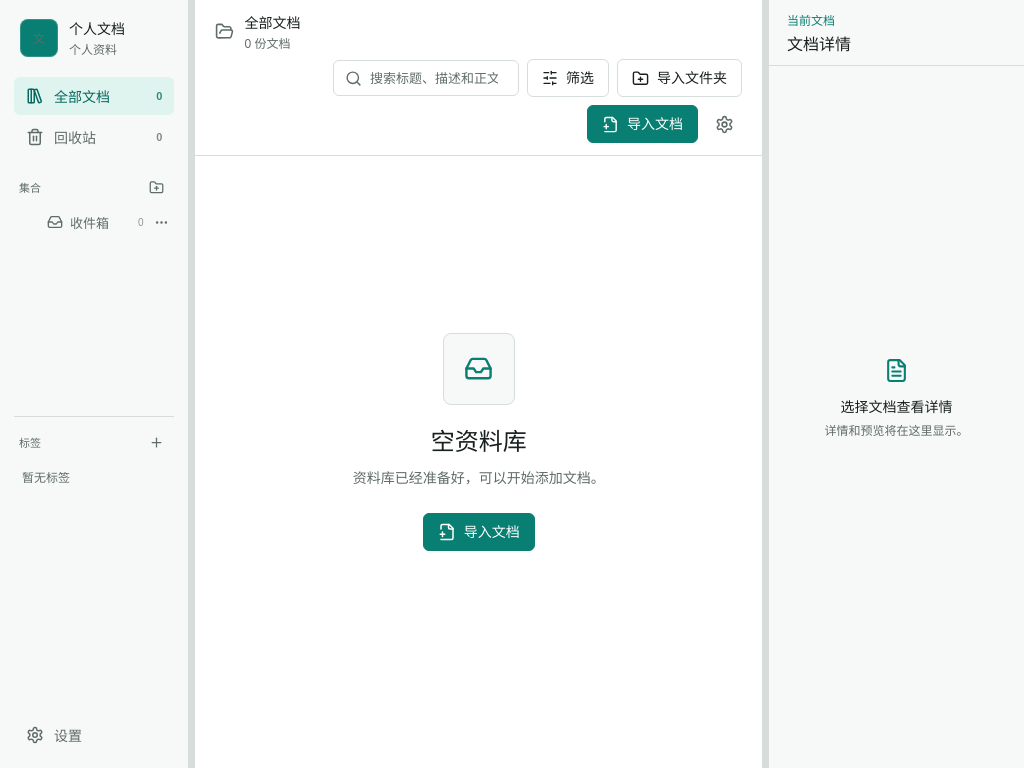
Scenario: 批量导入流程 › loads the live pending total after import instead of using the old snapshot
The image size is (1024, 768).
Expected: the button "全部文档 0" is shown, [14, 77, 174, 115]
Step 1. Click the 1st button "导入文档" → (642, 124), box [587, 105, 698, 143]
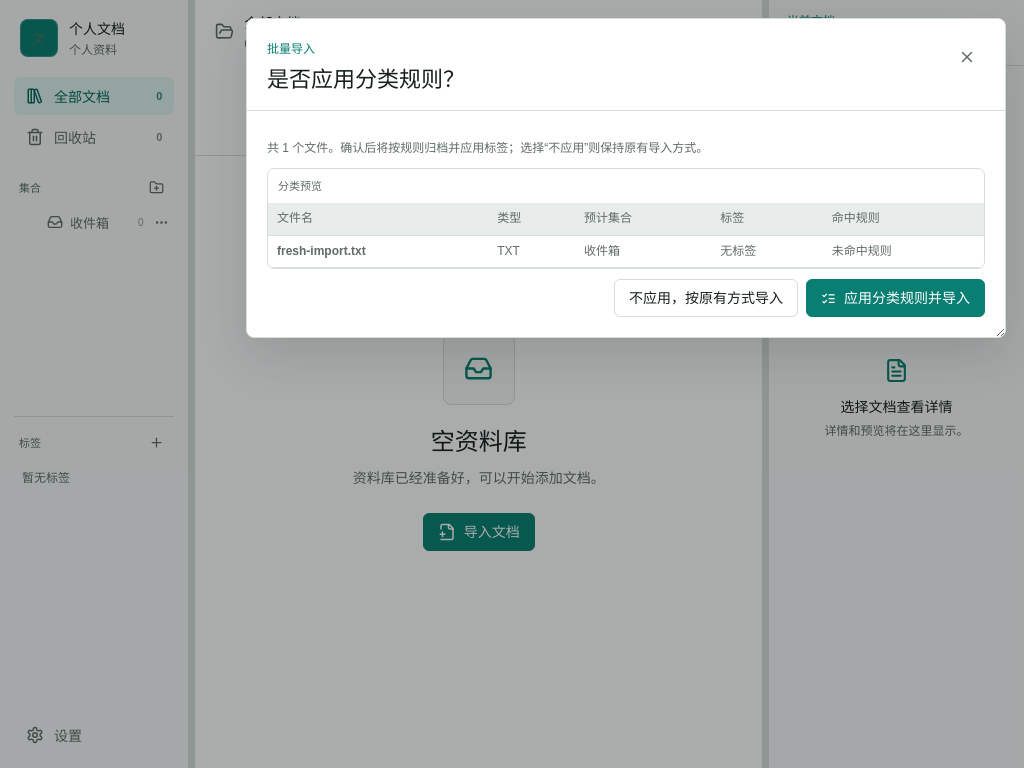
Step 2. Click the button "不应用，按原有方式导入" → (706, 298), box [614, 279, 798, 317]
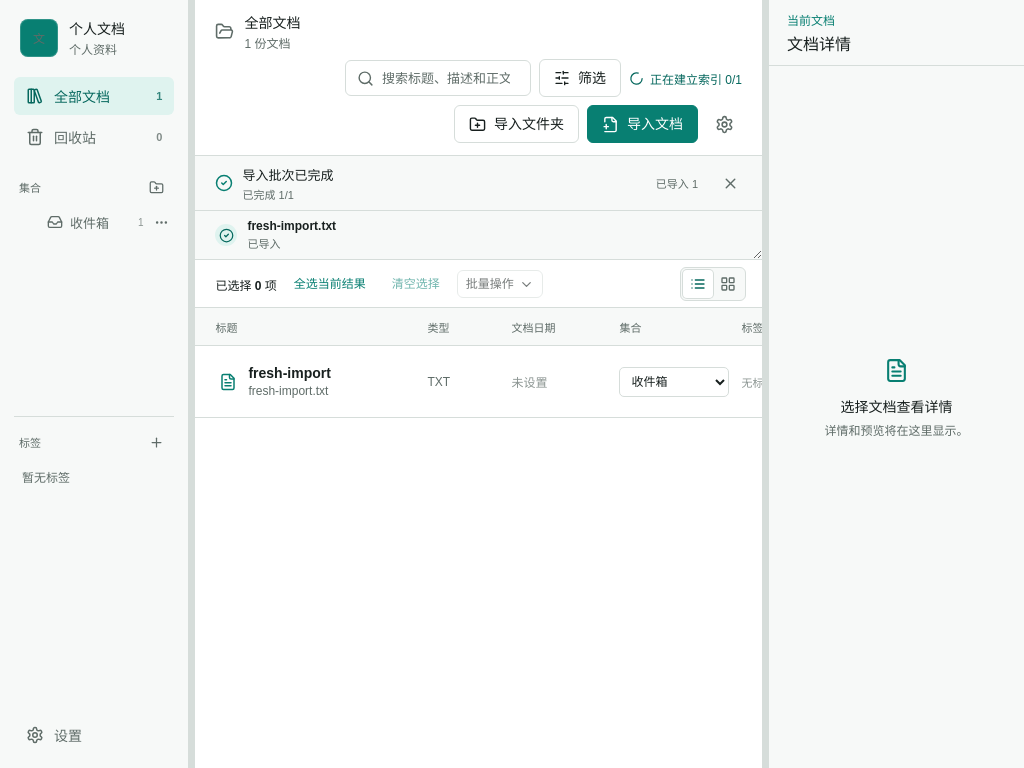
Result: the message reads "正在建立索引 0/1" at [650, 72, 742, 86]
